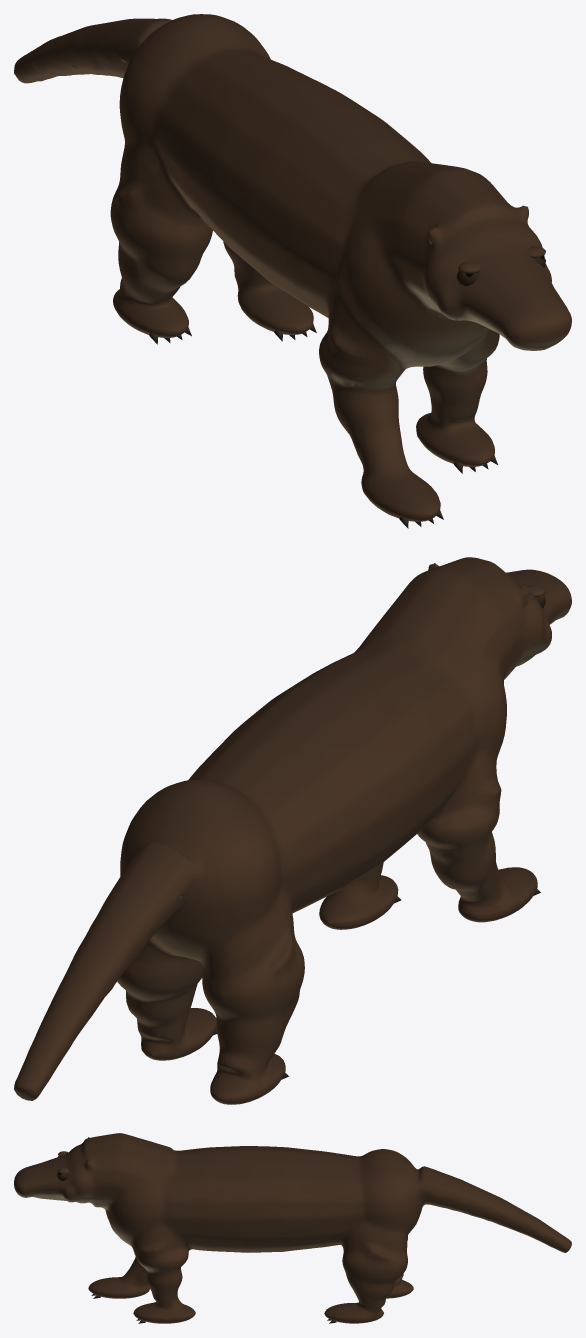
The model's file is EnhydriodonDikikae.fbx.
3 views of the same model, one above another, from view 1: azimuth 30°, elevation 25°; view 2: azimuth 150°, elevation 25°; view 3: azimuth 270°, elevation 25° (orthographic). The views are drawn at different scales.
Visible parts, largest first — view 1: EnhydriodonDikikae; view 2: EnhydriodonDikikae; view 3: EnhydriodonDikikae.
Boxes of the visible parts, <box> form: EnhydriodonDikikae: <box>14,14,571,528</box>; EnhydriodonDikikae: <box>14,557,571,1104</box>; EnhydriodonDikikae: <box>14,1133,571,1323</box>.
Size of the model in its own units: 0.4647 by 0.8399 by 2.46.
